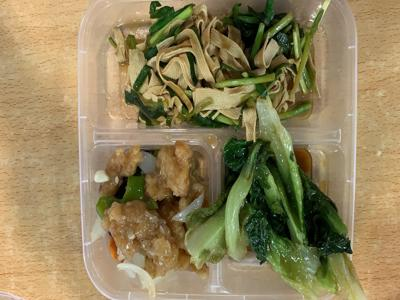gbr: (96, 145, 214, 282)
gdf: (121, 1, 258, 125)
ymc: (226, 133, 370, 294)
